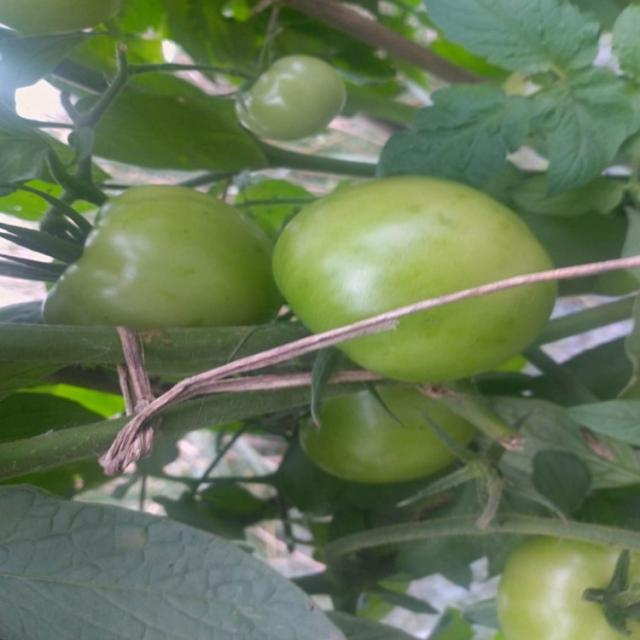tomato: (269, 150, 554, 401), (51, 176, 280, 361), (284, 367, 481, 506), (484, 513, 640, 640), (235, 31, 359, 144), (1, 1, 133, 44)
